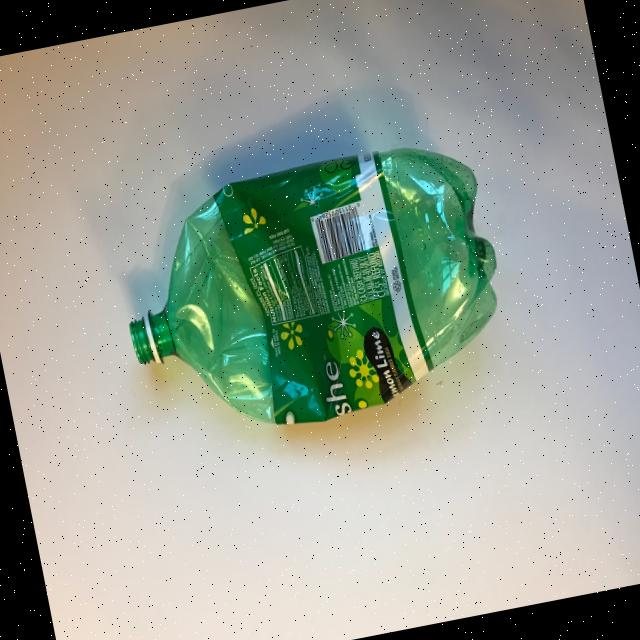plastic: (104, 130, 520, 455)
